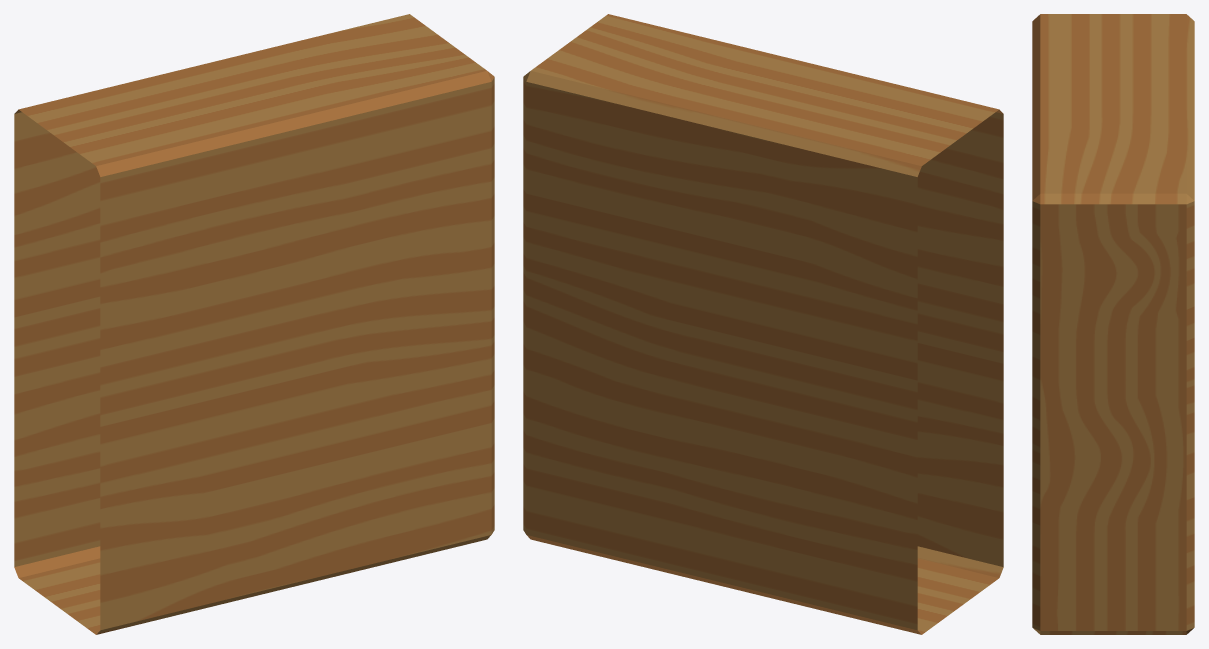
Rendered from board_02.FBX.
3 renders of one model, left to right at view 1: azimuth 30°, elevation 25°; view 2: azimuth 150°, elevation 25°; view 3: azimuth 270°, elevation 25°, orthographic. The views are drawn at different scales.
Visible parts, largest first — view 1: board_006; view 2: board_006; view 3: board_006.
Part boxes in pixels (bbox=[...]): board_006: bbox=[14, 14, 494, 634]; board_006: bbox=[523, 14, 1003, 634]; board_006: bbox=[1032, 14, 1194, 634].
Bounding box in the file's own units: 52.56 × 59.06 × 19.69.
